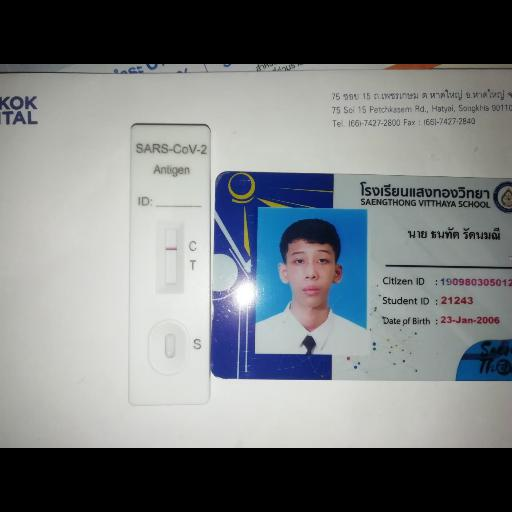Neg: (130, 122, 208, 406)
